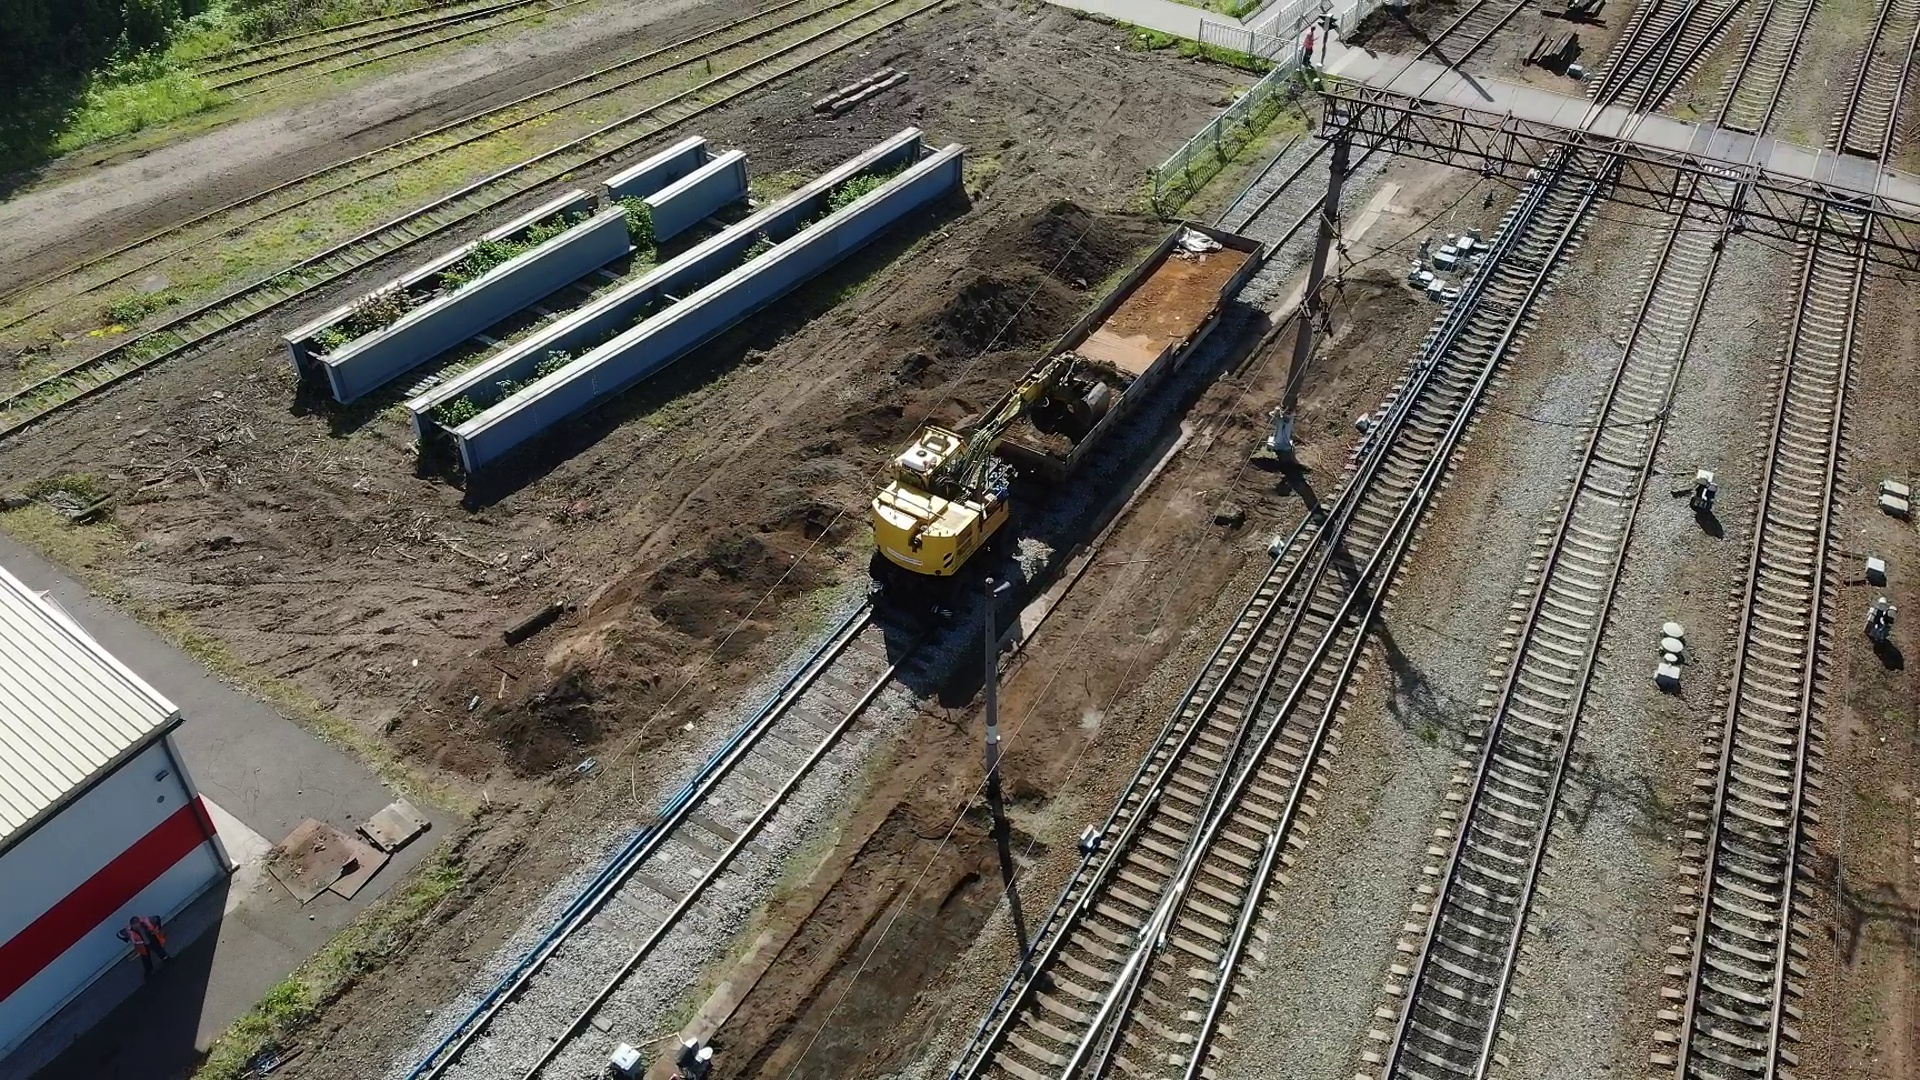kjtv: (876, 429, 1018, 603)
